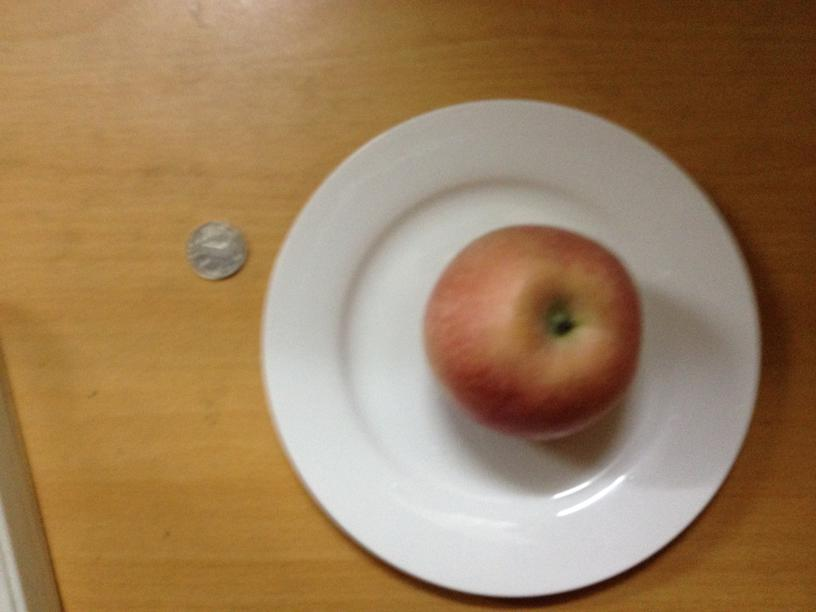apple: (421, 225, 639, 440)
coin: (188, 220, 247, 280)
